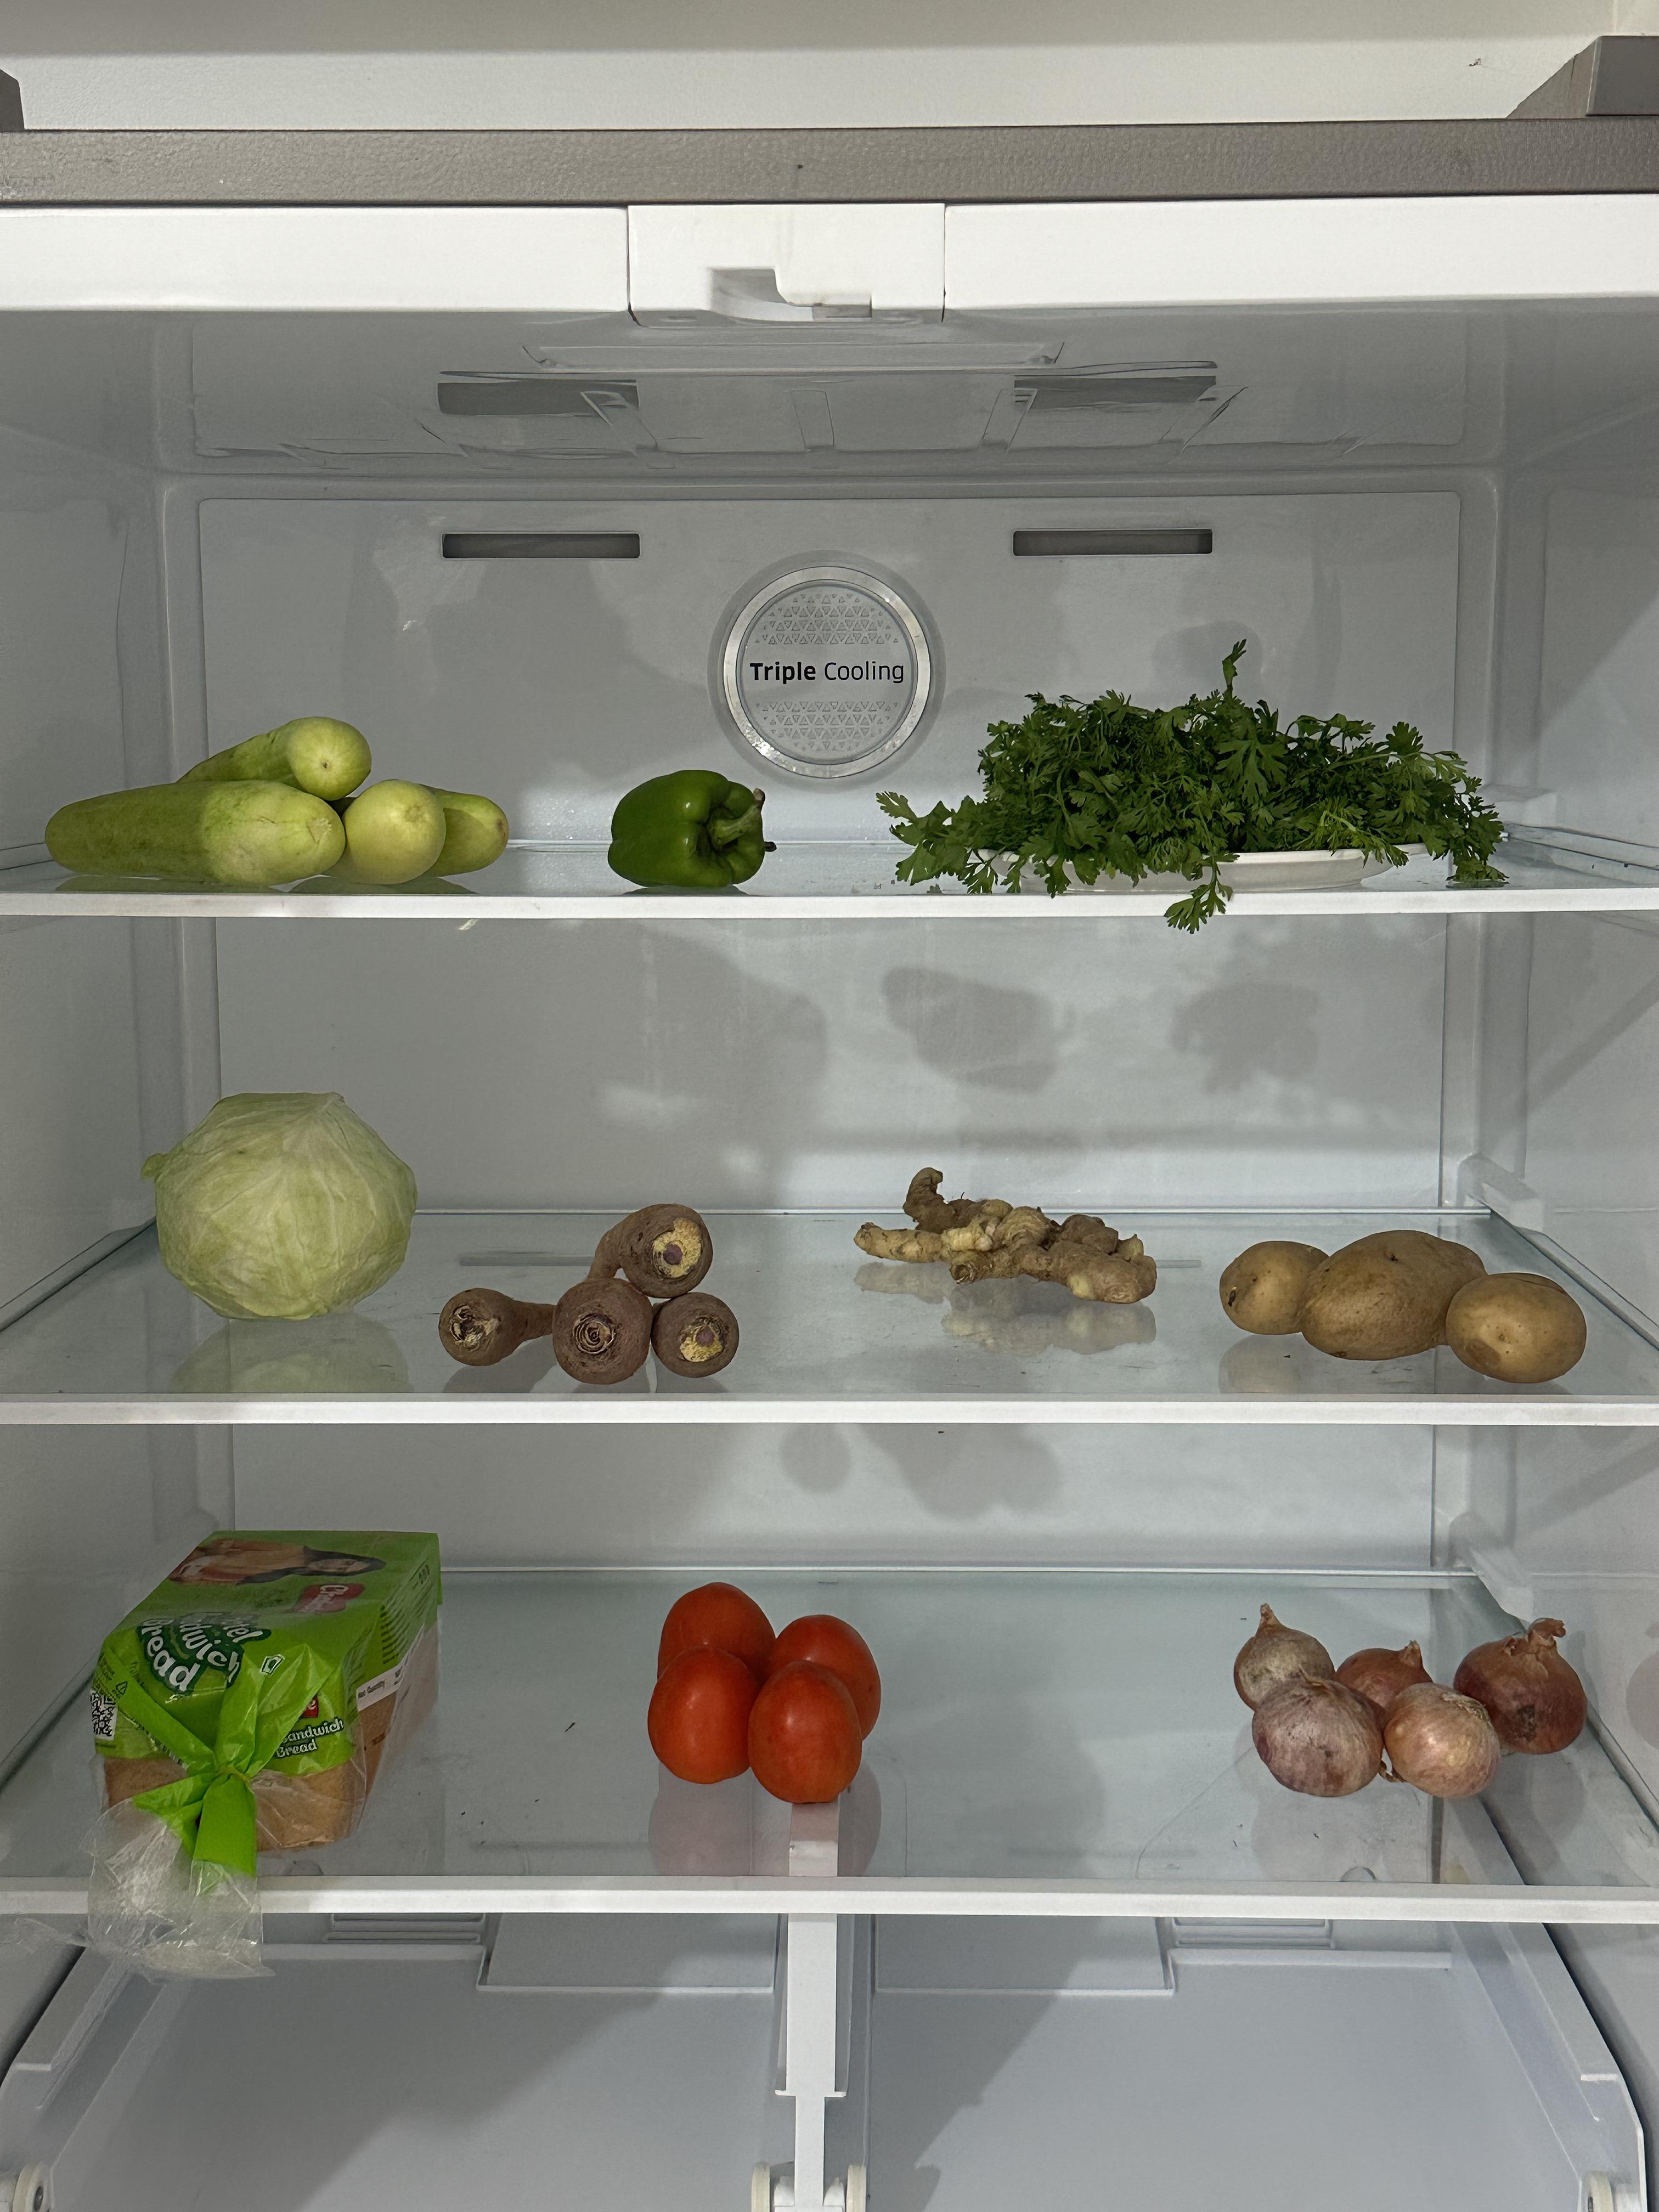bread: (78, 1512, 465, 1860)
cabbage: (153, 1080, 418, 1322), (443, 1197, 742, 1381)
capsicum: (591, 754, 793, 895)
coriander: (950, 681, 1480, 899)
cucumber: (40, 702, 516, 902)
ginger: (842, 1153, 1173, 1324)
onion: (1236, 1590, 1596, 1801)
potato: (1216, 1214, 1593, 1381)
tomato: (633, 1576, 892, 1806)
